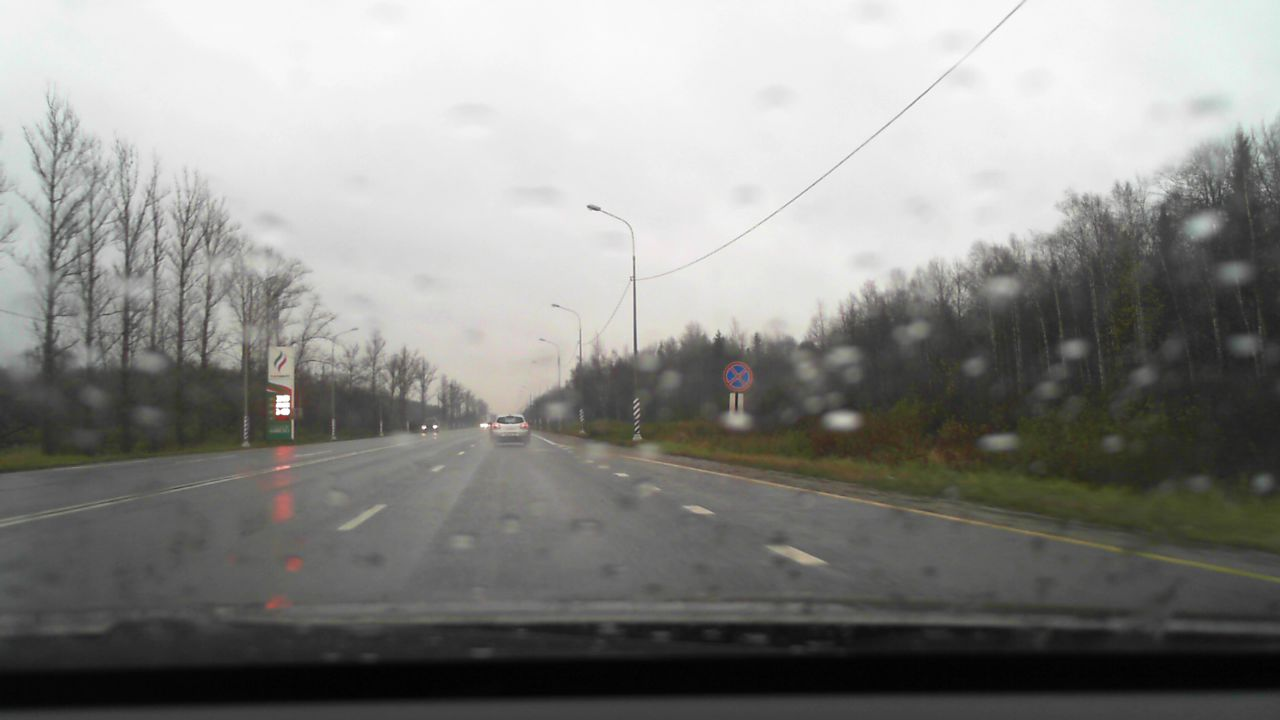No Parking: (722, 361, 753, 391)
